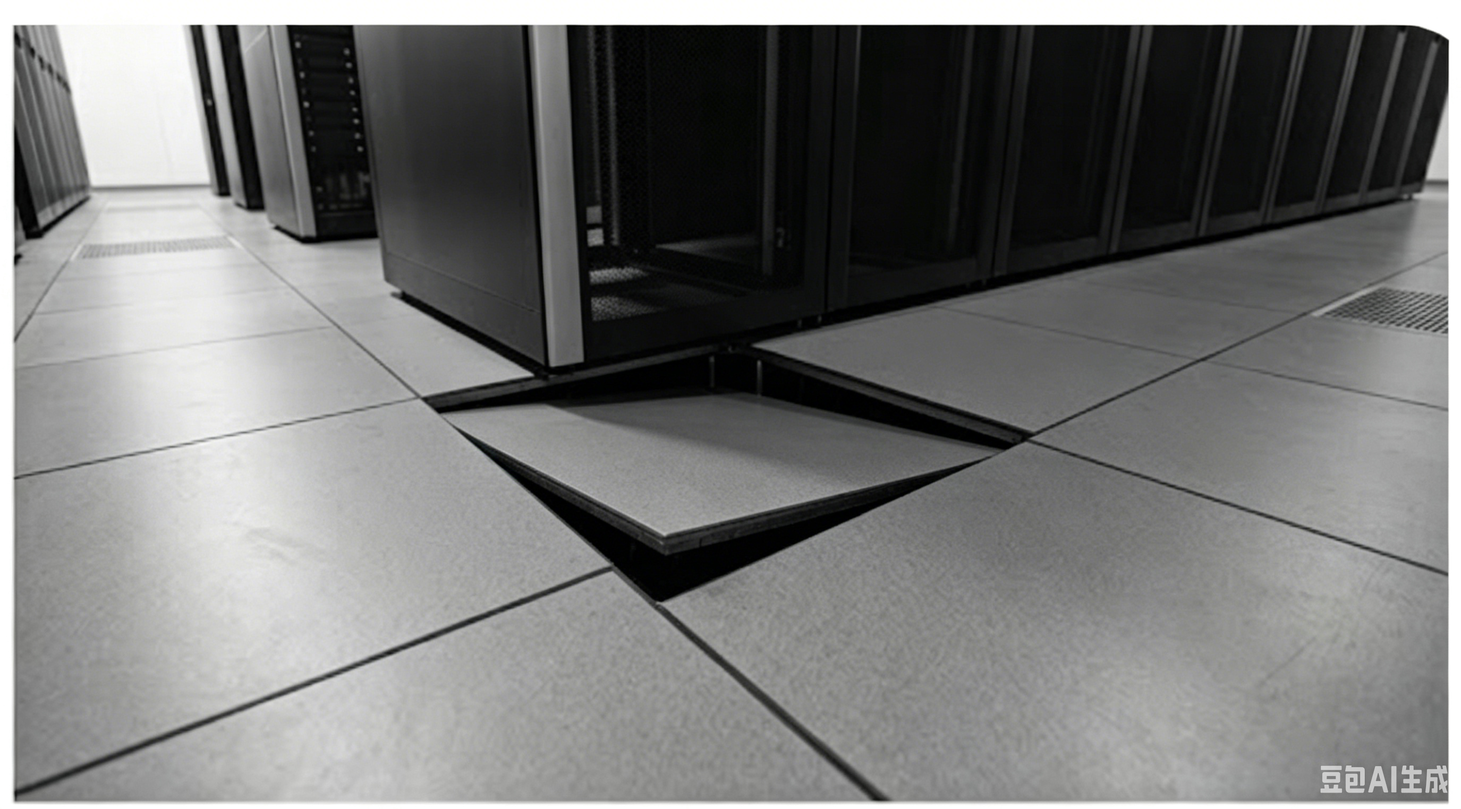floor_defect: (406, 341, 1037, 614)
